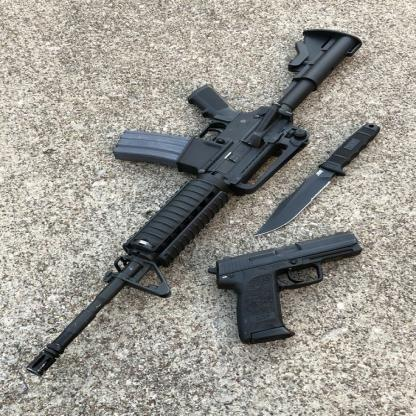Gun: (24, 25, 362, 378)
Knife: (254, 123, 386, 238)
Pistol: (205, 229, 367, 347)
